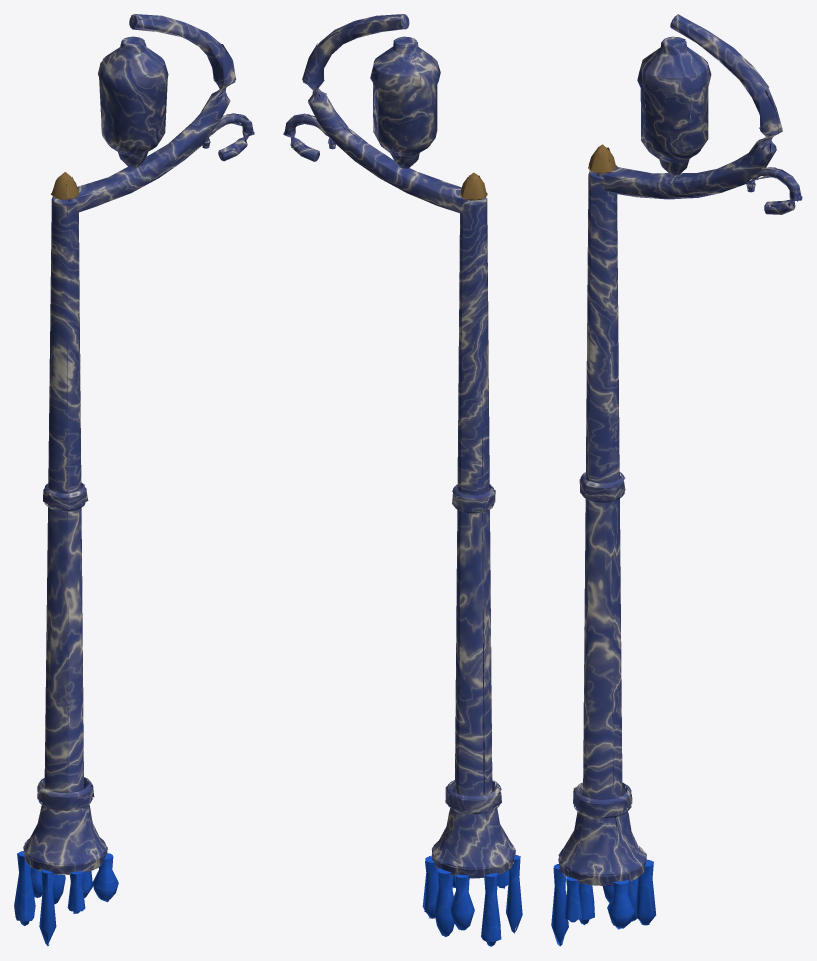
File: lamppost.glb
3 renders of one model, left to right at view 1: azimuth 30°, elevation 25°; view 2: azimuth 150°, elevation 25°; view 3: azimuth 330°, elevation 25°, orthographic. The views are drawn at different scales.
Visible parts, largest first — view 1: lamppost; view 2: lamppost; view 3: lamppost.
Part boxes in pixels (box(x1,y1,x2,y2)): lamppost: box(14, 14, 254, 946); lamppost: box(283, 14, 522, 946); lamppost: box(551, 14, 802, 946).
Size of the model in its own units: 1.22 by 4.6 by 0.4638.
1 material, 1 textured.
